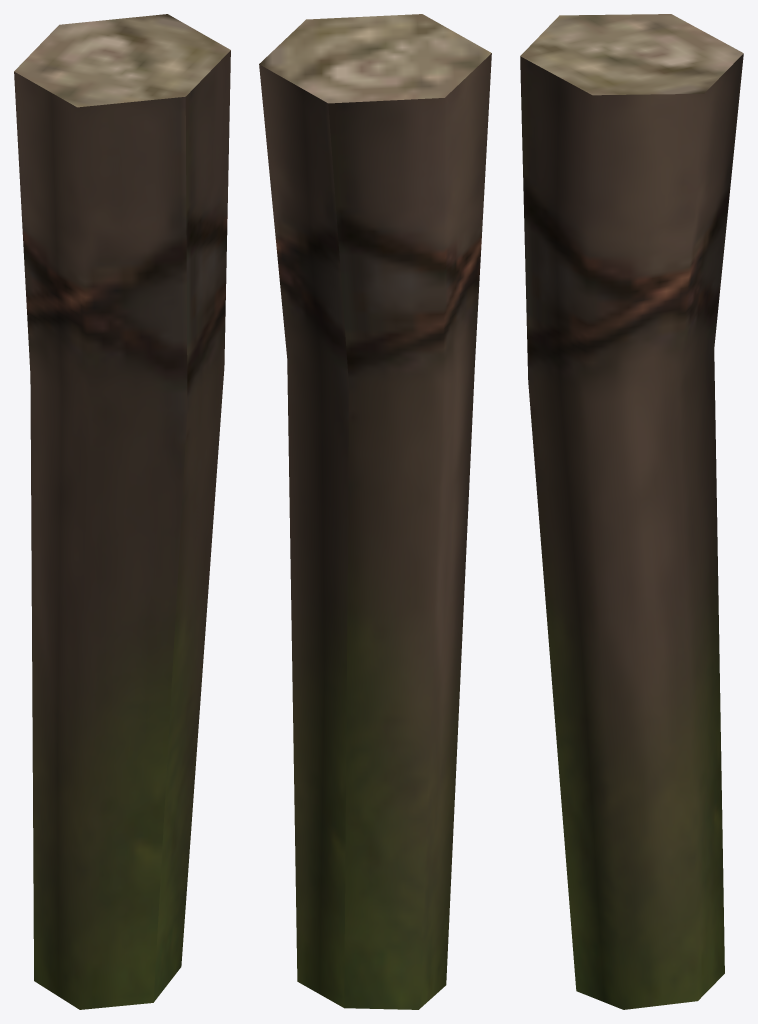
3 views of the same model, side by side, from view 1: azimuth 30°, elevation 25°; view 2: azimuth 150°, elevation 25°; view 3: azimuth 270°, elevation 25° (orthographic).
Parts seen in each view (by area): view 1: MB0002_25_02; view 2: MB0002_25_02; view 3: MB0002_25_02.
Part boxes in pixels (x1=…): MB0002_25_02: x1=14, y1=14, x2=230, y2=1009; MB0002_25_02: x1=259, y1=14, x2=491, y2=1009; MB0002_25_02: x1=520, y1=14, x2=743, y2=1009.
Bounding box in the file's own units: 0.2562 × 1.28 × 0.2753.
